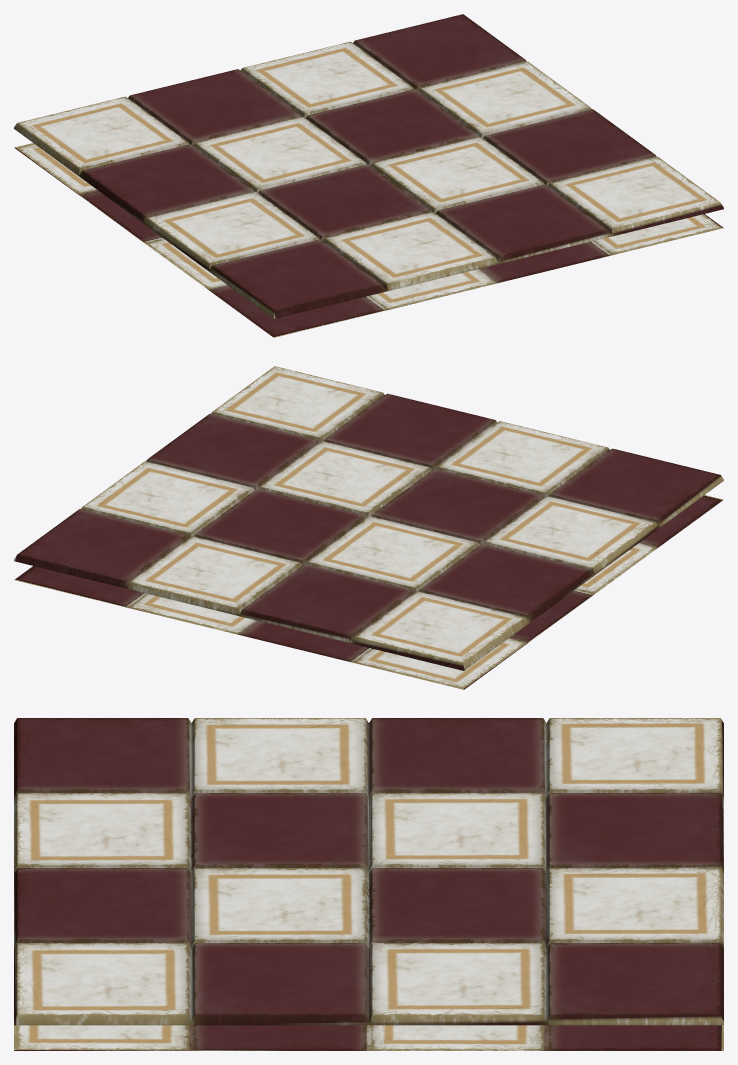
Rendered from AC_Floor.fbx.
The picture shows the model from 3 angles, top to bottom: view 1: azimuth 30°, elevation 25°; view 2: azimuth 150°, elevation 25°; view 3: azimuth 270°, elevation 25°; orthographic projection. The views are drawn at different scales.
Visible parts, largest first — view 1: AC_Floor; view 2: AC_Floor; view 3: AC_Floor.
Part boxes in pixels (left/top/right/bottom): AC_Floor: left=14, top=14, right=723, bottom=337; AC_Floor: left=14, top=366, right=723, bottom=689; AC_Floor: left=14, top=718, right=723, bottom=1050.
Size of the model in its own units: 500 by 26.65 by 500.
